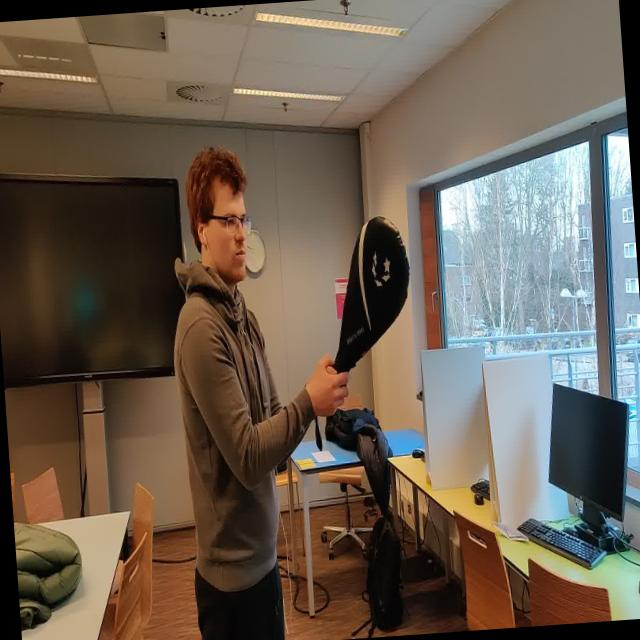paddle: (332, 214, 410, 374)
